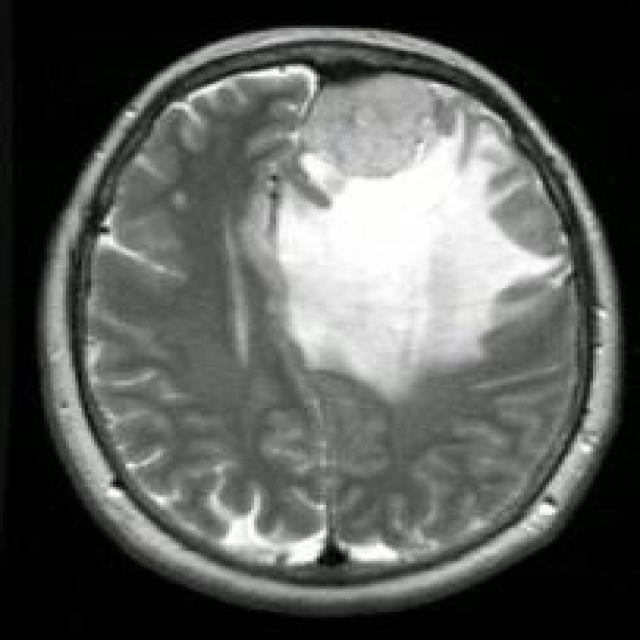Tumor-Cell: (281, 140, 569, 376)
